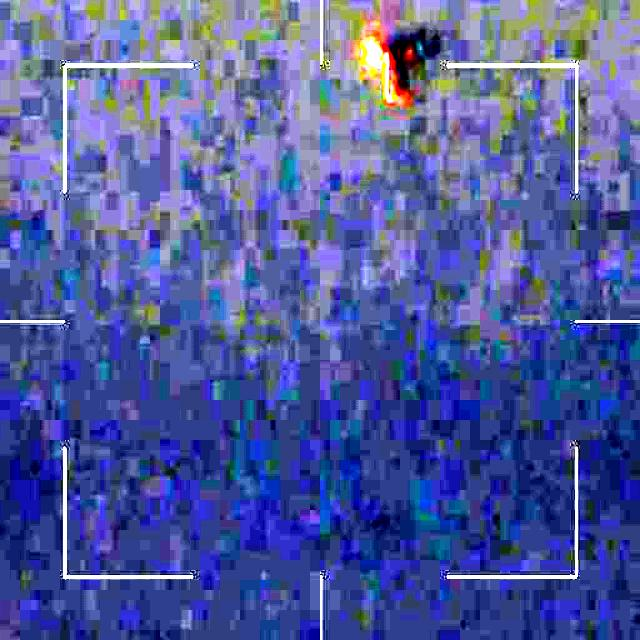bird: (359, 28, 439, 126)
